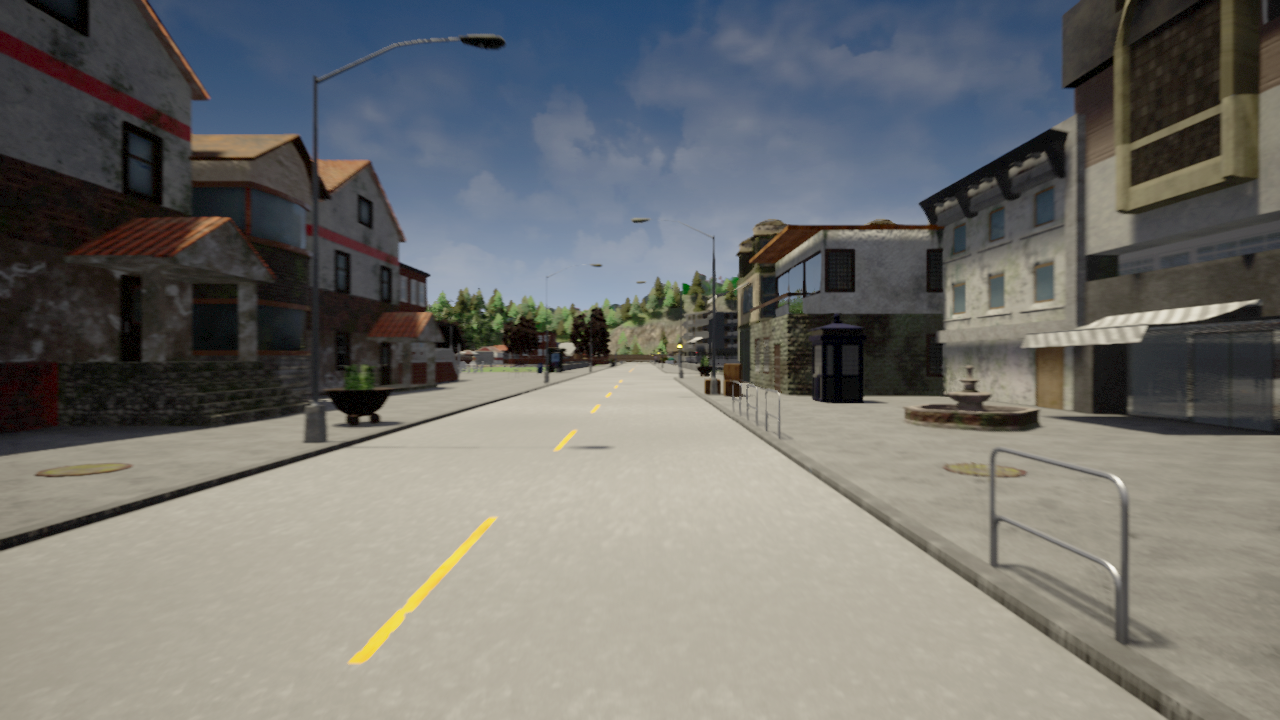yellow: (676, 340, 683, 354)
